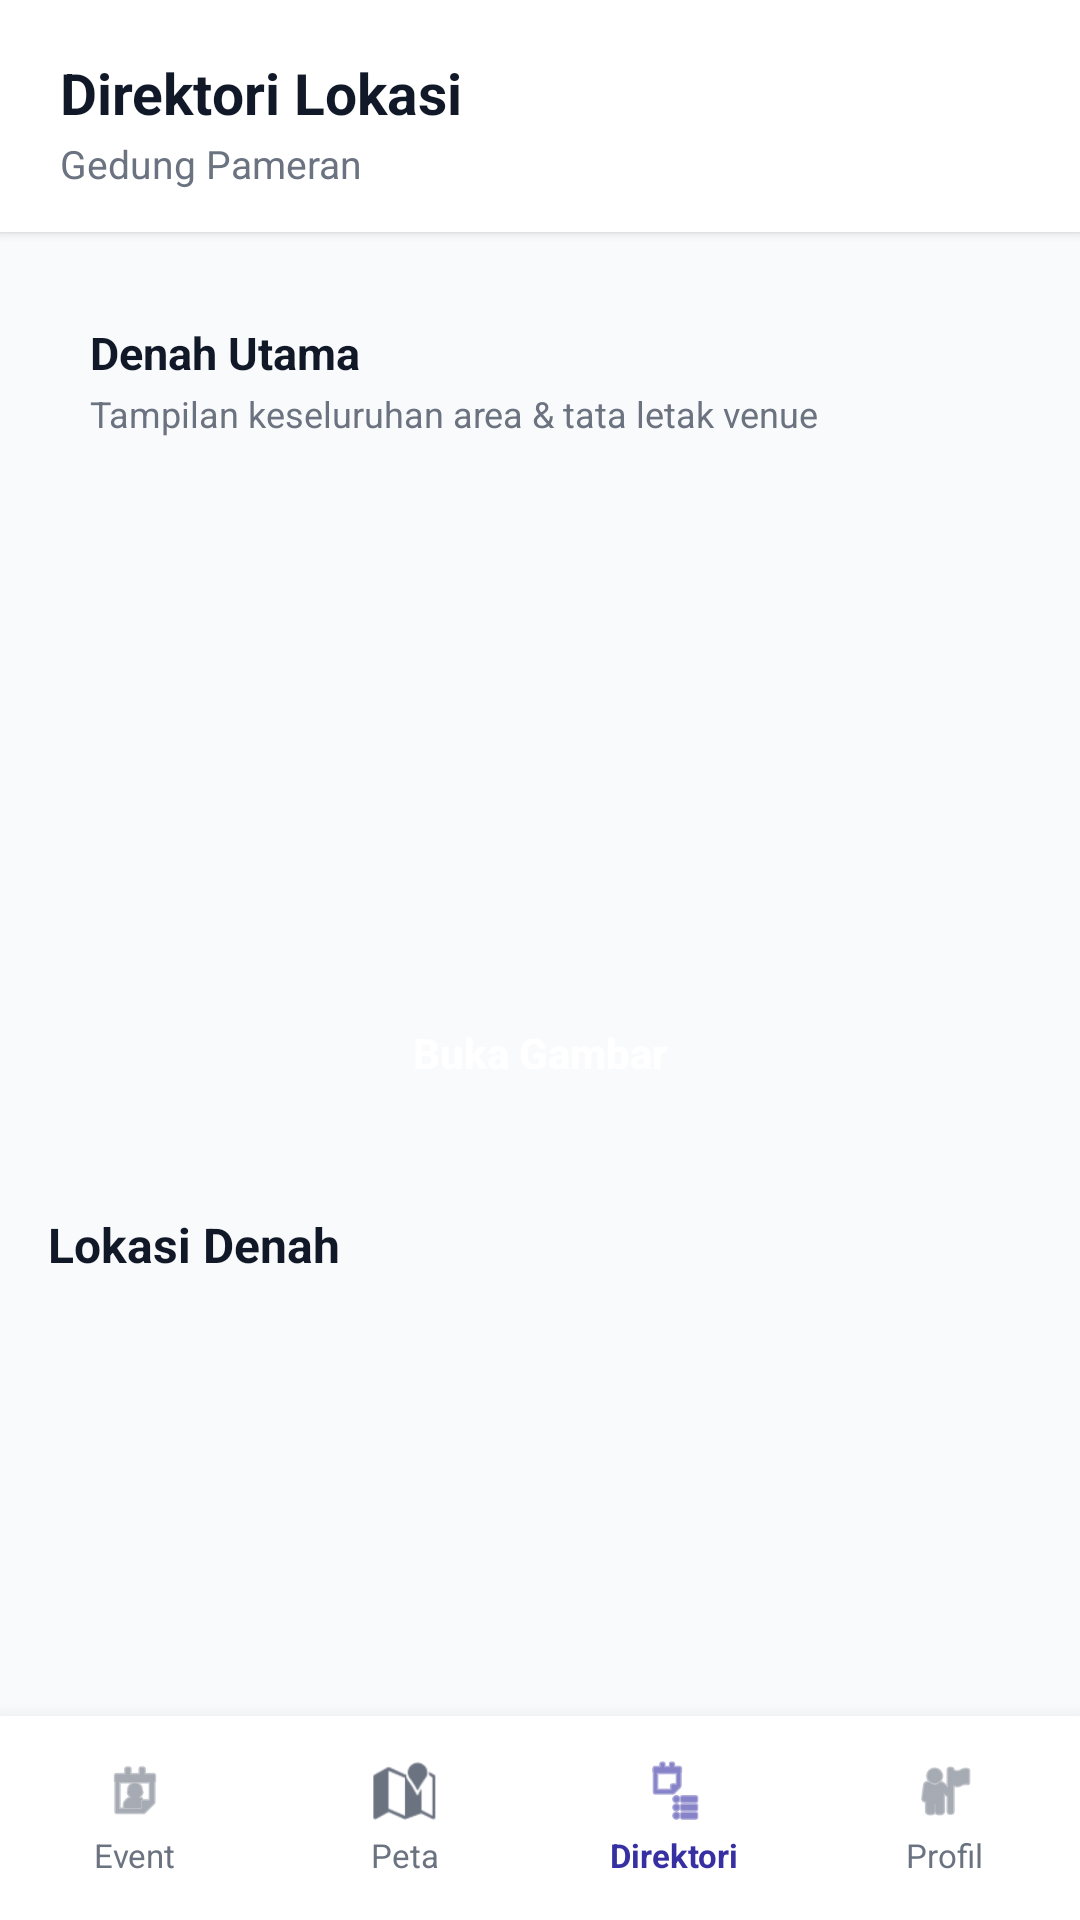

Screen size 1080×1920. Icon name, then its box in pixels as (x1, y1, x2, y2):
agenda: (652, 1761, 699, 1820)
calendar: (114, 1766, 156, 1814)
myplaces: (921, 1767, 970, 1815)
